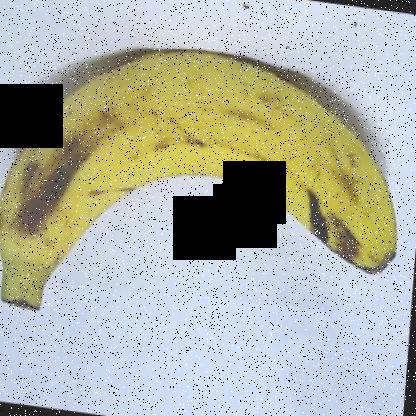ripe: (1, 34, 411, 329)
